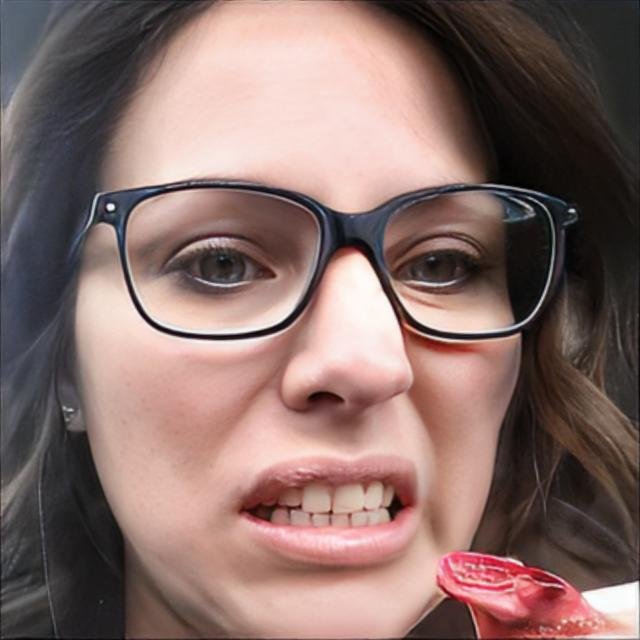disgust: (72, 1, 524, 638)
